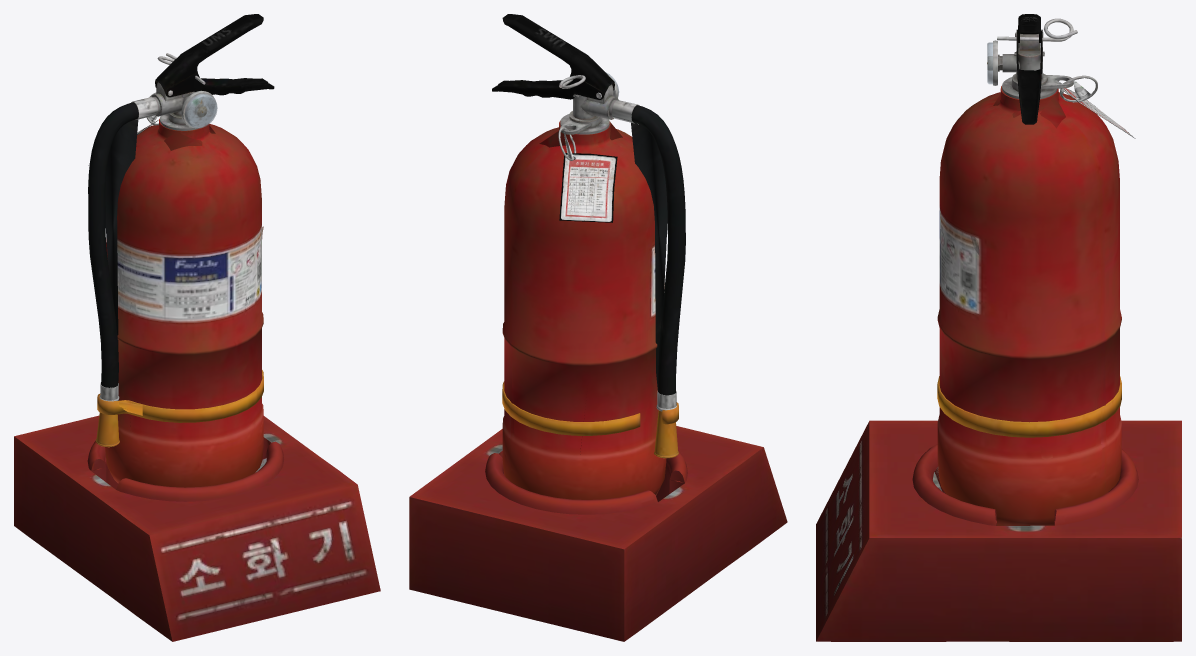
The model's file is korean_fire_extinguisher_01.glb.
The picture shows the model from 3 angles, left to right: view 1: azimuth 30°, elevation 25°; view 2: azimuth 150°, elevation 25°; view 3: azimuth 270°, elevation 25°; orthographic projection. The views are drawn at different scales.
Visible parts, largest first — view 1: korean_fire_extinguisher_01, korean_fire_extinguisher_01_lo; view 2: korean_fire_extinguisher_01, korean_fire_extinguisher_01_lo; view 3: korean_fire_extinguisher_01, korean_fire_extinguisher_01_lo.
Part boxes in pixels (x1,y1,x2,y2): korean_fire_extinguisher_01: (14,14,346,641); korean_fire_extinguisher_01_lo: (14,93,380,641); korean_fire_extinguisher_01: (485,14,787,641); korean_fire_extinguisher_01_lo: (409,74,763,641); korean_fire_extinguisher_01: (816,14,1181,641); korean_fire_extinguisher_01_lo: (816,43,1181,641).
Size of the model in its own units: 0.2799 by 0.6593 by 0.3675.
Materials: 3 (3 with a texture image).
